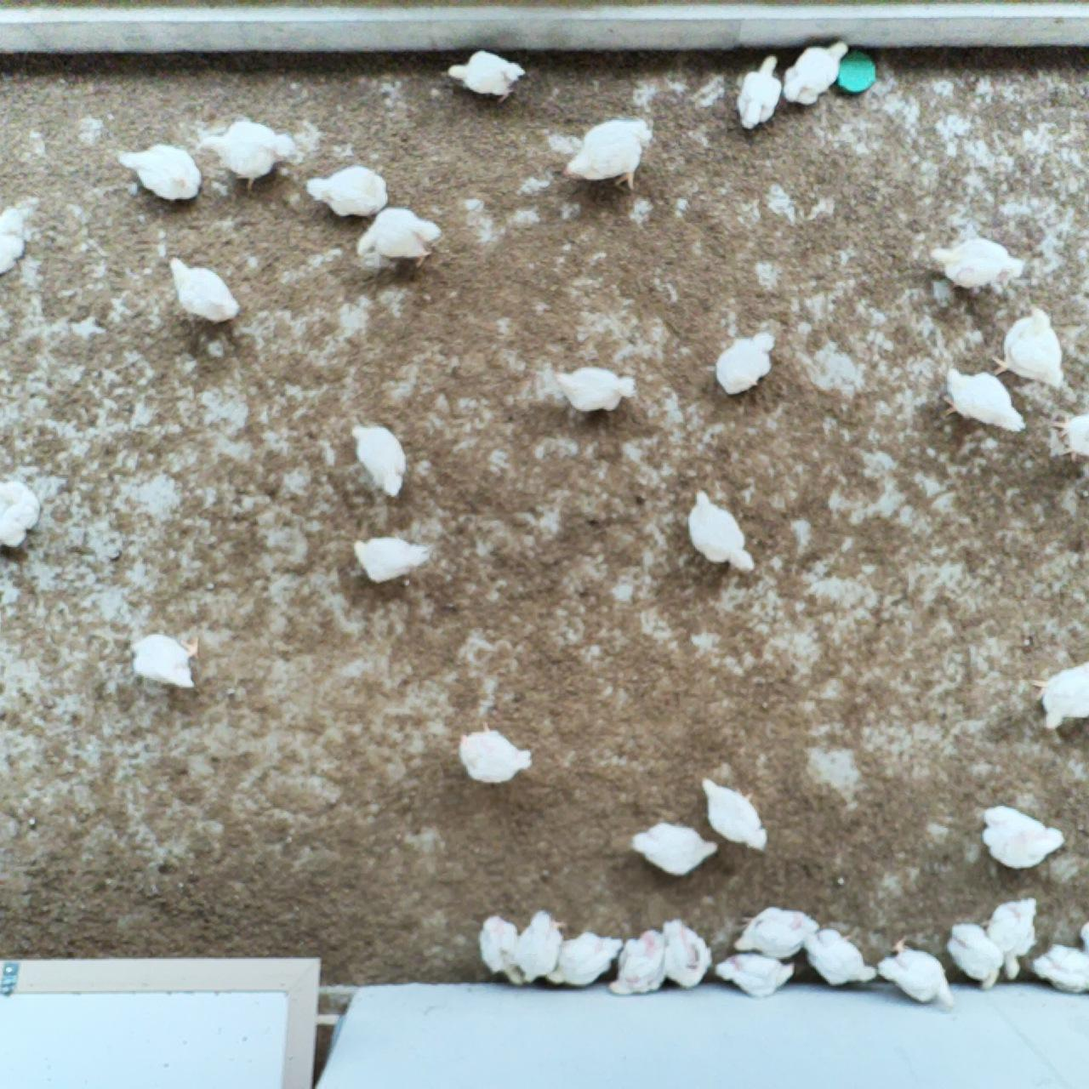chicken: (557, 110, 658, 196), (196, 117, 299, 197), (677, 485, 762, 579), (989, 298, 1069, 393), (937, 361, 1033, 438), (926, 229, 1031, 298), (876, 928, 958, 1014), (974, 798, 1066, 873), (110, 138, 208, 208), (351, 200, 443, 273), (696, 768, 770, 857), (164, 247, 240, 331), (125, 624, 212, 696), (624, 817, 722, 880), (711, 324, 785, 406), (301, 160, 393, 225), (978, 892, 1042, 983), (732, 899, 822, 963), (345, 418, 413, 502), (455, 719, 535, 790), (348, 526, 438, 588), (779, 36, 853, 110), (441, 43, 529, 105), (604, 925, 674, 1001), (802, 921, 880, 989), (549, 361, 638, 419), (1025, 653, 1089, 733), (943, 917, 1009, 993), (544, 928, 626, 989), (511, 907, 572, 986), (713, 948, 798, 1003), (733, 50, 784, 136), (660, 917, 715, 993), (0, 474, 50, 556), (478, 915, 528, 989), (1031, 939, 1089, 1000), (0, 203, 31, 282), (1046, 411, 1089, 466)
